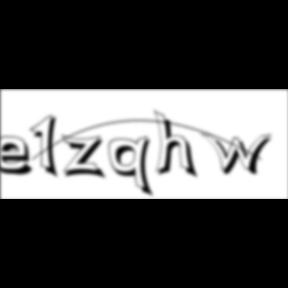1: (30, 114, 64, 182)
e: (0, 135, 40, 178)
h: (154, 108, 202, 182)
q: (109, 135, 158, 200)
w: (201, 132, 279, 178)
z: (62, 134, 110, 182)
